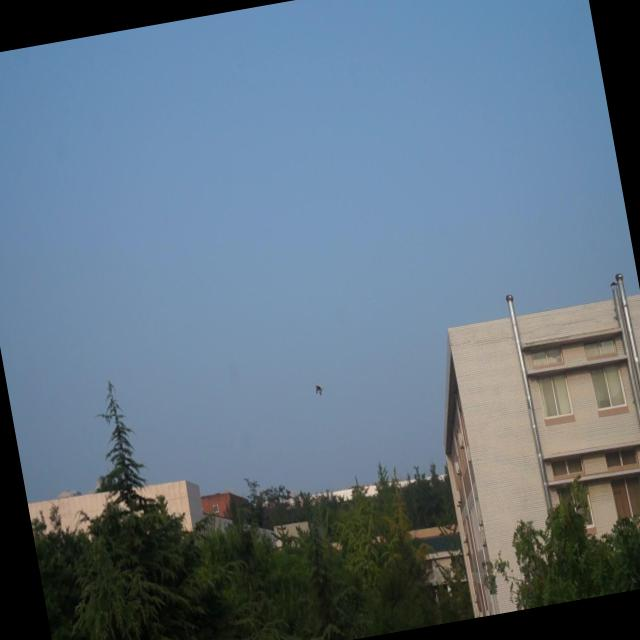drone: (312, 379, 324, 398)
